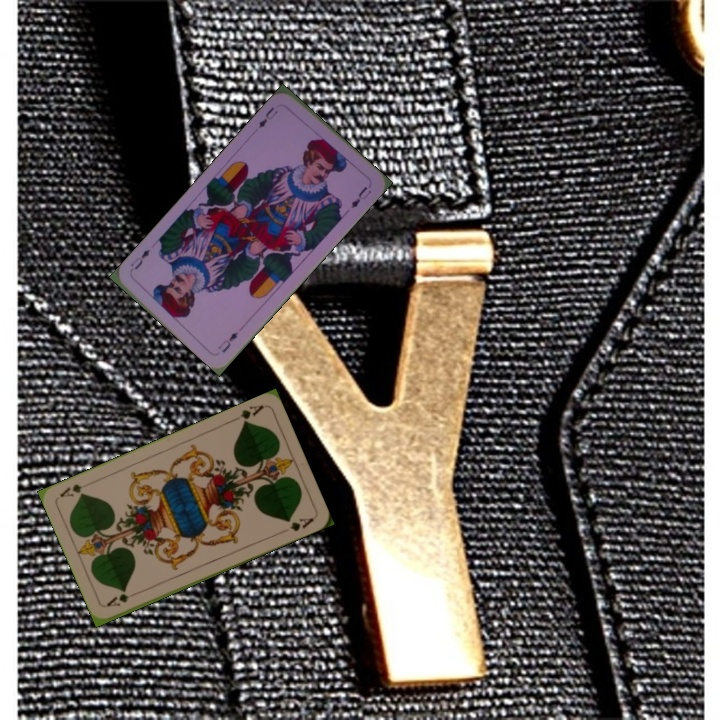EU: (254, 103, 281, 131), (214, 328, 241, 355)
GA: (228, 401, 266, 427), (103, 587, 141, 609)
